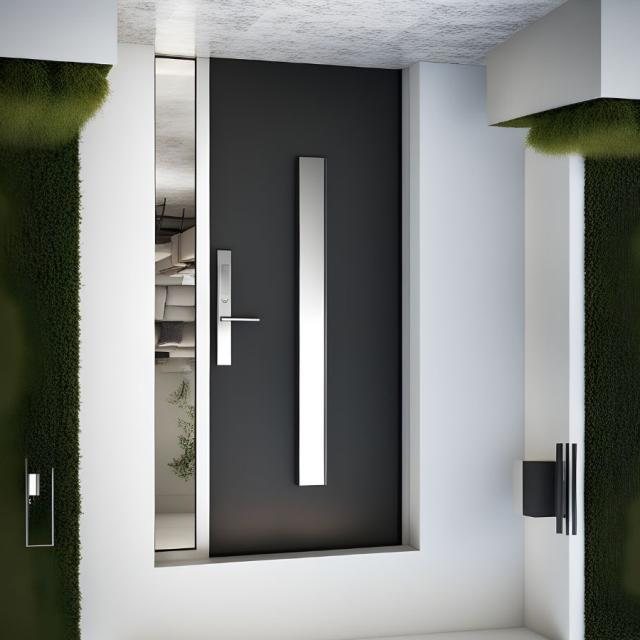door: (205, 57, 406, 560)
